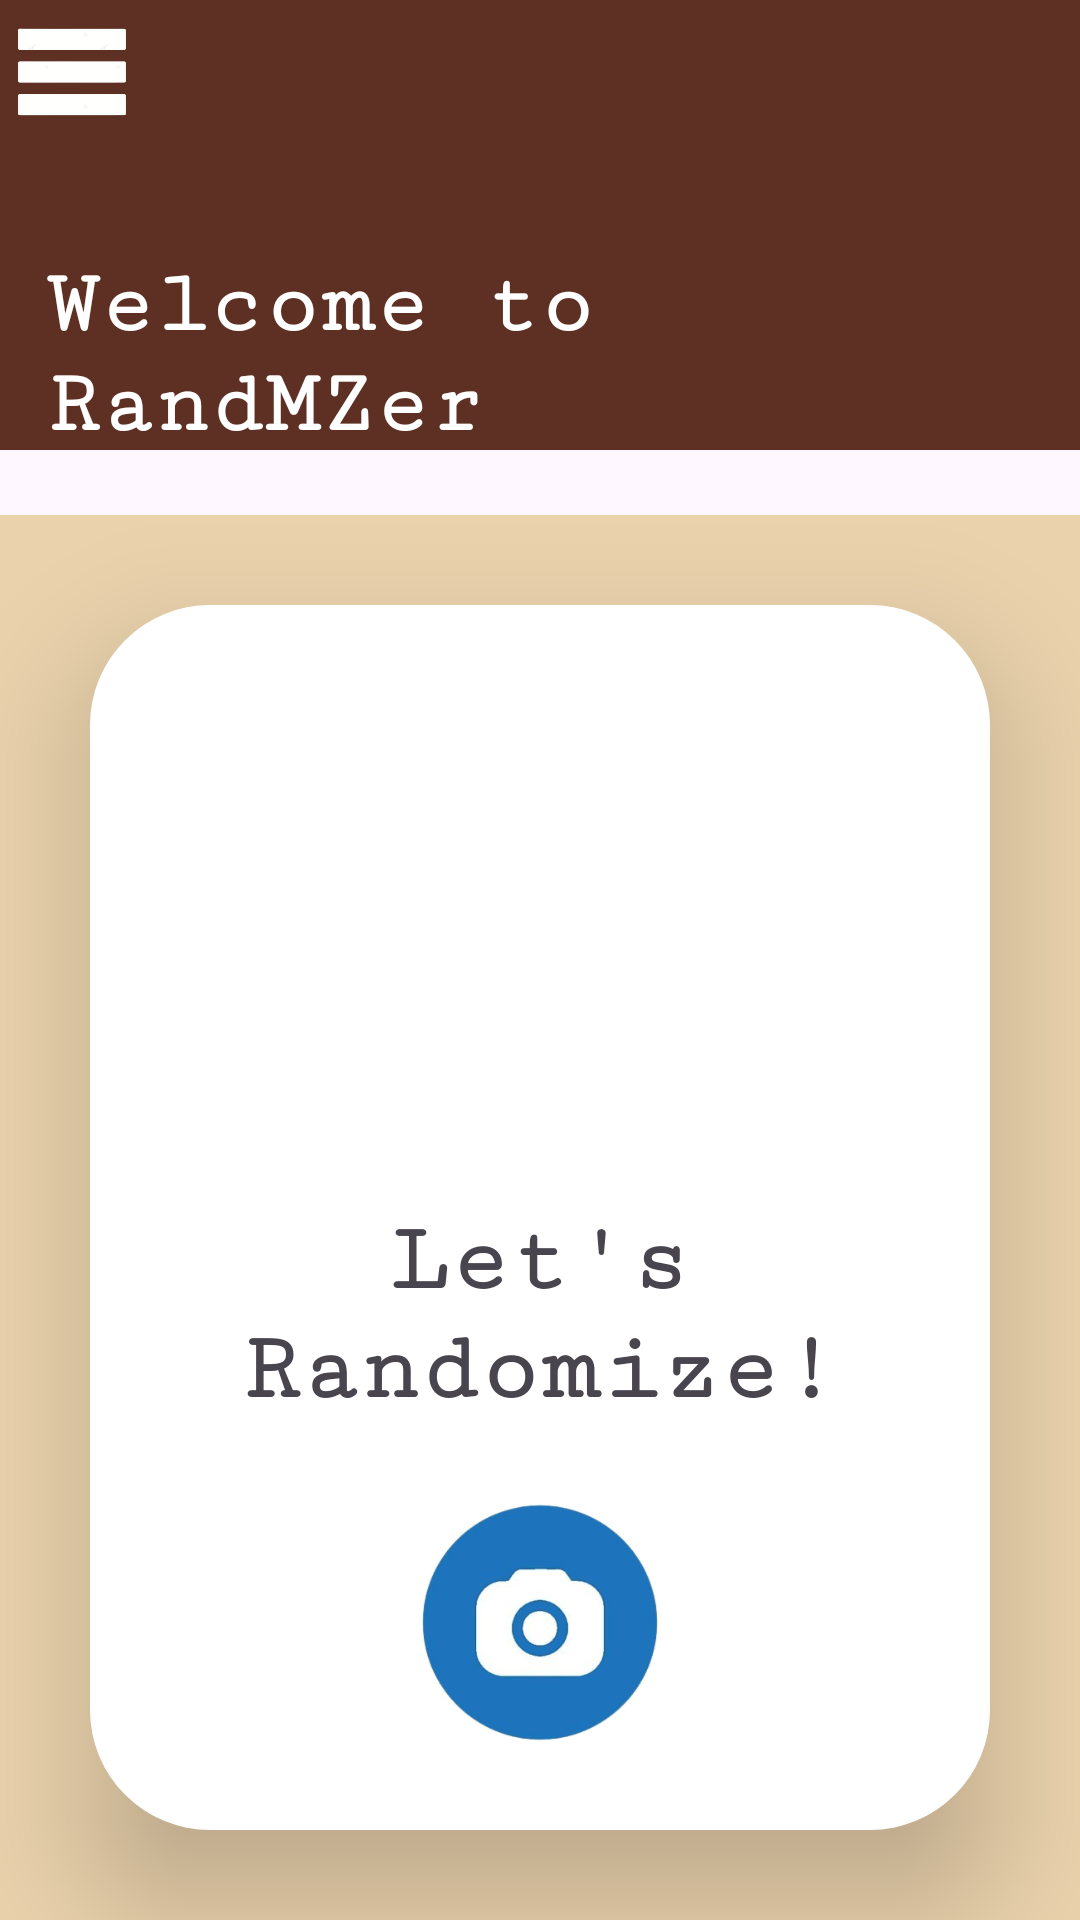

Where to tap for icons on this 1080 x 1920 app screen, as point (x, y):
camera: point (540, 1622)
Menu: point (72, 72)
